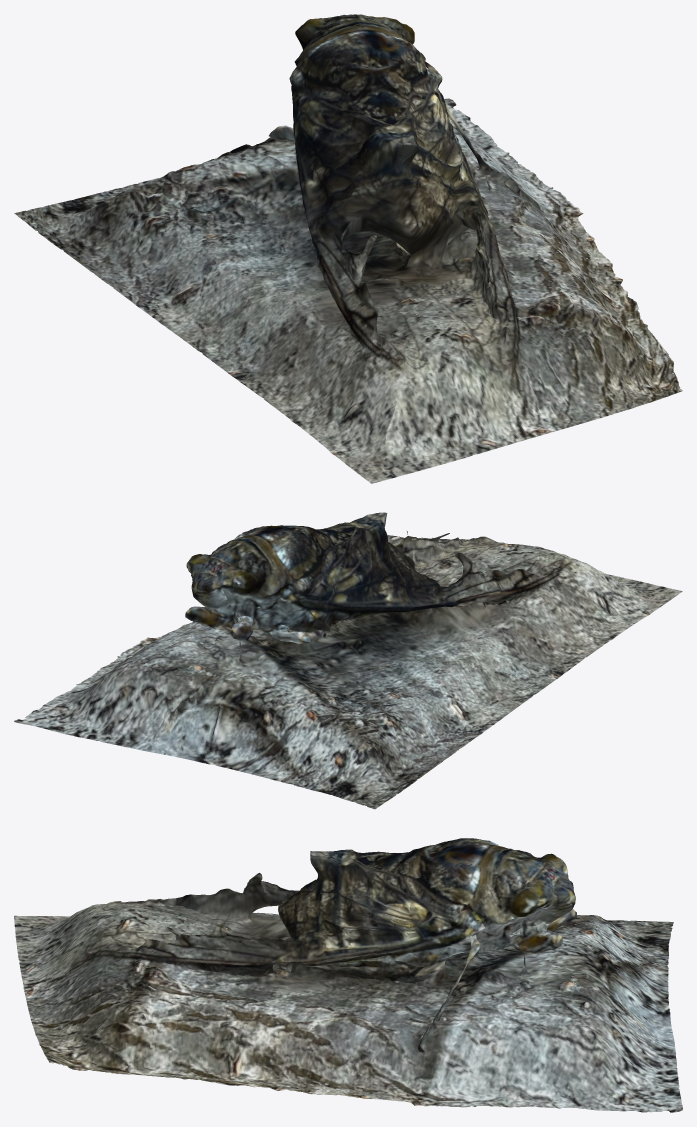
Rendered from chicharra.glb.
3 renders of one model, top to bottom at view 1: azimuth 30°, elevation 25°; view 2: azimuth 150°, elevation 25°; view 3: azimuth 270°, elevation 25°, orthographic. The views are drawn at different scales.
Parts seen in each view (by area): view 1: chicharra; view 2: chicharra; view 3: chicharra.
Part boxes in pixels (left/top/right/bottom): chicharra: left=14, top=14, right=682, bottom=483; chicharra: left=14, top=512, right=682, bottom=809; chicharra: left=14, top=838, right=682, bottom=1112.
Size of the model in its own units: 0.6494 by 0.2887 by 0.9279.
Materials: 1 (1 with a texture image).
